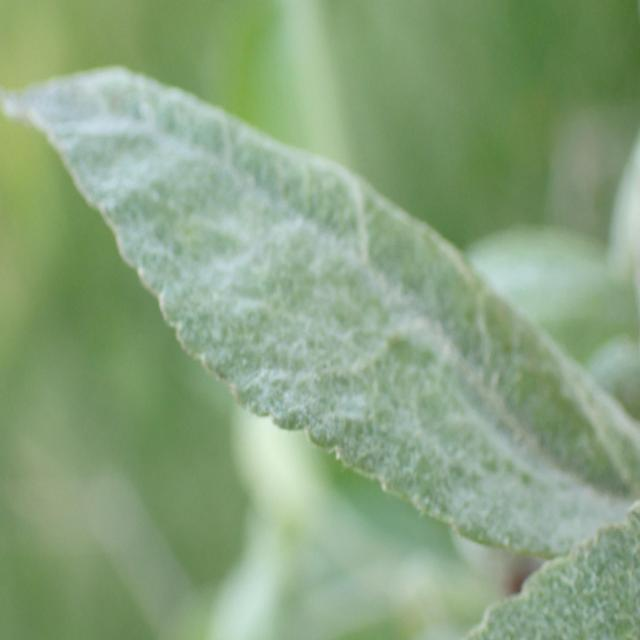Powdery_mildew: (0, 54, 640, 558), (443, 511, 639, 640)
